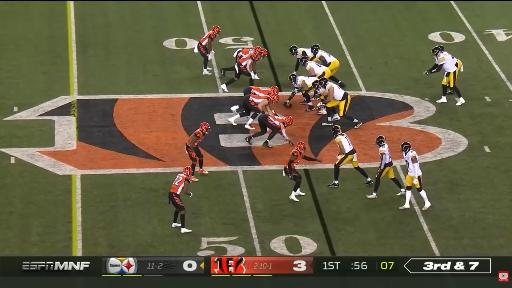Helmet: (331, 125, 343, 137), (432, 46, 443, 57), (401, 142, 411, 154), (183, 166, 193, 177), (288, 73, 298, 83), (296, 142, 306, 152), (269, 92, 278, 103), (285, 115, 293, 127), (311, 44, 320, 54), (312, 80, 321, 90), (200, 123, 210, 132), (376, 136, 385, 146), (300, 56, 309, 66), (319, 78, 328, 88), (212, 26, 221, 35), (270, 85, 279, 93), (253, 46, 262, 54), (290, 46, 298, 55), (260, 49, 268, 57), (251, 54, 260, 61), (437, 45, 444, 51)
Jersey: (321, 83, 348, 101), (436, 52, 457, 72), (170, 174, 190, 194), (335, 134, 354, 154), (285, 149, 303, 170), (403, 150, 417, 176), (237, 51, 254, 70), (187, 129, 204, 147), (293, 76, 316, 88), (379, 144, 391, 166), (316, 50, 336, 63), (306, 62, 326, 75), (234, 48, 253, 61), (268, 115, 285, 129), (249, 94, 268, 106), (200, 31, 215, 45), (297, 48, 313, 59), (251, 87, 271, 95)
Player: (328, 126, 373, 187), (313, 78, 362, 128), (424, 46, 465, 105), (366, 136, 405, 198), (283, 142, 321, 201), (400, 142, 430, 210), (228, 92, 278, 129), (245, 114, 293, 147), (221, 51, 260, 91), (169, 167, 192, 233), (311, 44, 345, 87), (186, 123, 210, 181), (195, 26, 221, 74), (221, 47, 262, 76), (286, 74, 316, 111), (299, 57, 330, 78), (290, 46, 313, 73), (243, 86, 279, 95), (260, 48, 268, 58)
